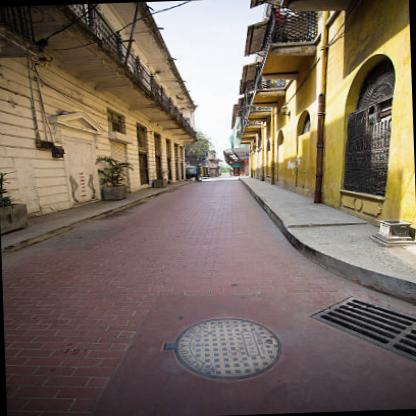manholes: (146, 298, 308, 394)
